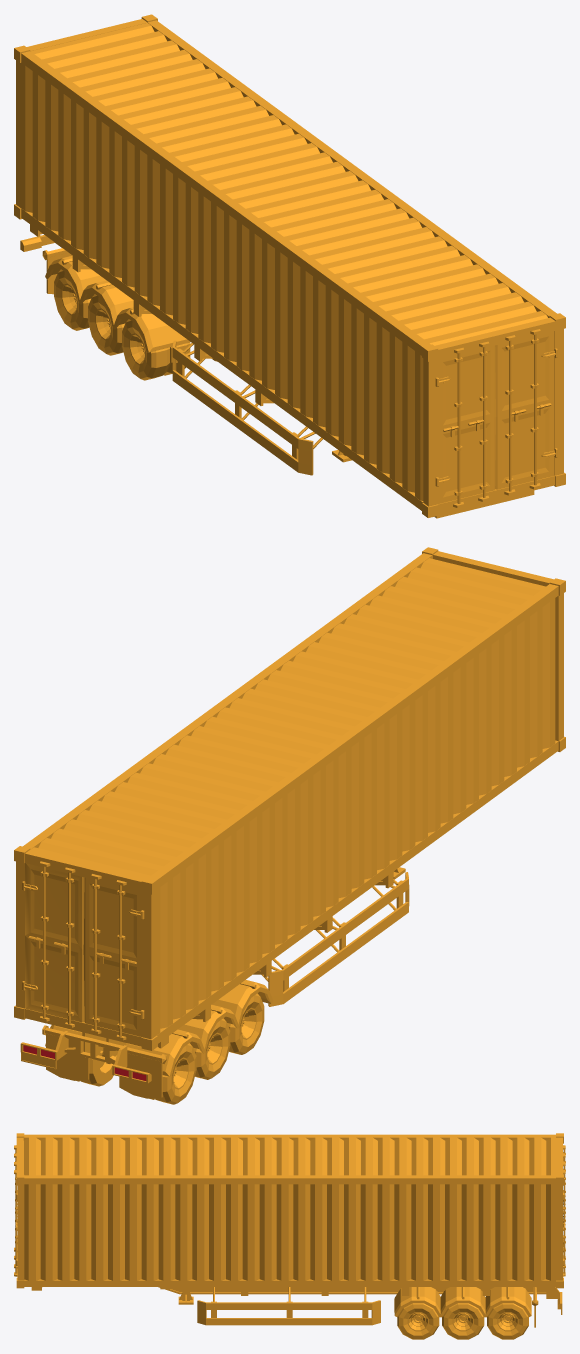
Rendered from SM_Car_Truck_Trailer_Container_Large.fbx.
3 renders of one model, top to bottom at view 1: azimuth 30°, elevation 25°; view 2: azimuth 150°, elevation 25°; view 3: azimuth 270°, elevation 25°, orthographic. The views are drawn at different scales.
Parts seen in each view (by area): view 1: SM_Car_Truck_Trailer_Container_Large_Base, SM_Car_Truck_Trailer_Container_Large_Door_LF, SM_Car_Truck_Trailer_Container_Large_Door_RF, SM_Car_Truck_Trailer_Container_Large_Wheel_RB1, SM_Car_Truck_Trailer_Container_Large_Wheel_RB2, SM_Car_Truck_Trailer_Container_Large_Wheel_RB3; view 2: SM_Car_Truck_Trailer_Container_Large_Base, SM_Car_Truck_Trailer_Container_Large_Door_LB, SM_Car_Truck_Trailer_Container_Large_Door_RB, SM_Car_Truck_Trailer_Container_Large_Wheel_RB3, SM_Car_Truck_Trailer_Container_Large_Wheel_RB2, SM_Car_Truck_Trailer_Container_Large_Wheel_RB1; view 3: SM_Car_Truck_Trailer_Container_Large_Base, SM_Car_Truck_Trailer_Container_Large_Wheel_LB1, SM_Car_Truck_Trailer_Container_Large_Wheel_LB2, SM_Car_Truck_Trailer_Container_Large_Wheel_LB3, SM_Car_Truck_Trailer_Container_Large_Door_LB, SM_Car_Truck_Trailer_Container_Large_Door_LF.
Boxes of the visible parts, x1,y1,x2,y2 form: SM_Car_Truck_Trailer_Container_Large_Base: [14, 14, 565, 518]; SM_Car_Truck_Trailer_Container_Large_Door_LF: [495, 331, 557, 491]; SM_Car_Truck_Trailer_Container_Large_Door_RF: [435, 345, 495, 503]; SM_Car_Truck_Trailer_Container_Large_Wheel_RB1: [122, 319, 190, 380]; SM_Car_Truck_Trailer_Container_Large_Wheel_RB2: [88, 294, 124, 355]; SM_Car_Truck_Trailer_Container_Large_Wheel_RB3: [54, 269, 90, 330]; SM_Car_Truck_Trailer_Container_Large_Base: [14, 547, 565, 1098]; SM_Car_Truck_Trailer_Container_Large_Door_LB: [22, 863, 84, 1024]; SM_Car_Truck_Trailer_Container_Large_Door_RB: [83, 877, 144, 1036]; SM_Car_Truck_Trailer_Container_Large_Wheel_RB3: [149, 1043, 196, 1104]; SM_Car_Truck_Trailer_Container_Large_Wheel_RB2: [193, 1018, 230, 1079]; SM_Car_Truck_Trailer_Container_Large_Wheel_RB1: [227, 993, 264, 1054]; SM_Car_Truck_Trailer_Container_Large_Base: [14, 1133, 565, 1327]; SM_Car_Truck_Trailer_Container_Large_Wheel_LB1: [397, 1303, 439, 1339]; SM_Car_Truck_Trailer_Container_Large_Wheel_LB2: [442, 1303, 484, 1339]; SM_Car_Truck_Trailer_Container_Large_Wheel_LB3: [487, 1303, 528, 1339]; SM_Car_Truck_Trailer_Container_Large_Door_LB: [563, 1166, 565, 1273]; SM_Car_Truck_Trailer_Container_Large_Door_LF: [15, 1166, 17, 1273].
Size of the model in its own units: 2.69 by 4.71 by 14.11.
